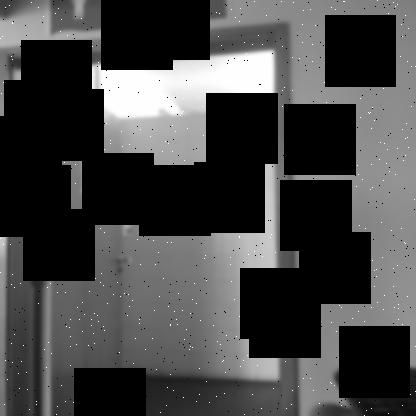Porte: (0, 21, 301, 416)
